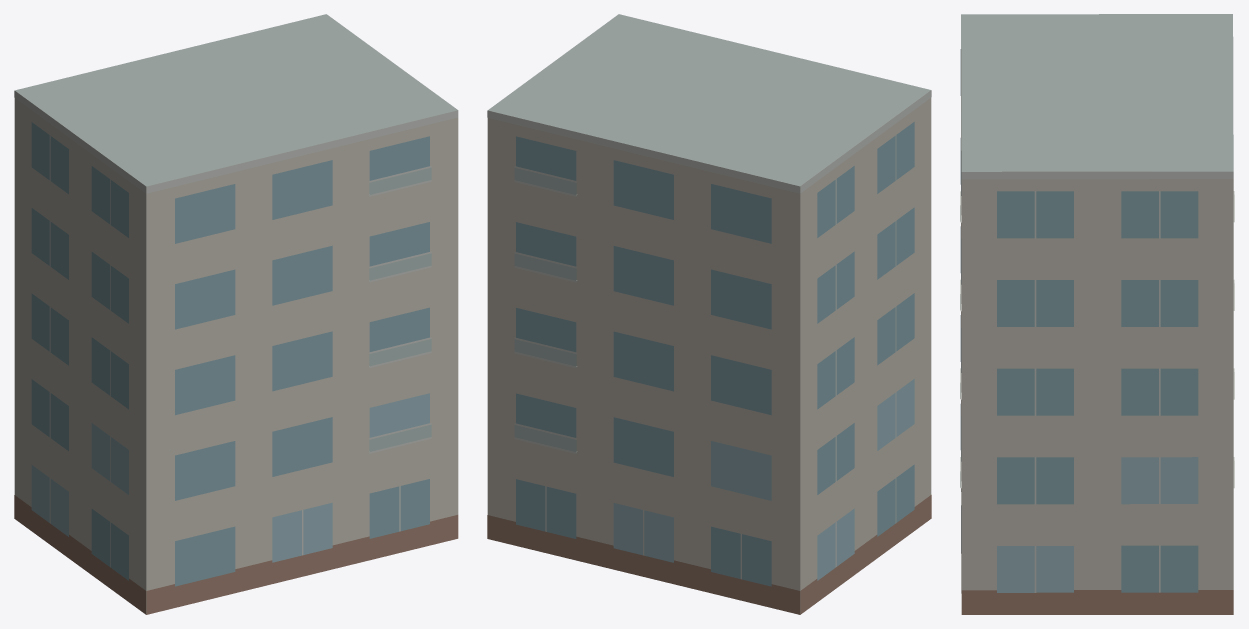
File: survey-upis-32744049.glb
3 views of the same model, side by side, from view 1: azimuth 30°, elevation 25°; view 2: azimuth 150°, elevation 25°; view 3: azimuth 270°, elevation 25° (orthographic). The views are drawn at different scales.
Parts seen in each view (by area): view 1: survey-upis-32744049.tmp; view 2: survey-upis-32744049.tmp; view 3: survey-upis-32744049.tmp.
Boxes of the visible parts, x1,y1,x2,y2 form: survey-upis-32744049.tmp: (14, 14, 458, 614); survey-upis-32744049.tmp: (487, 14, 931, 614); survey-upis-32744049.tmp: (960, 14, 1234, 614).
Size of the model in its own units: 11.09 by 14.5 by 8.15.
